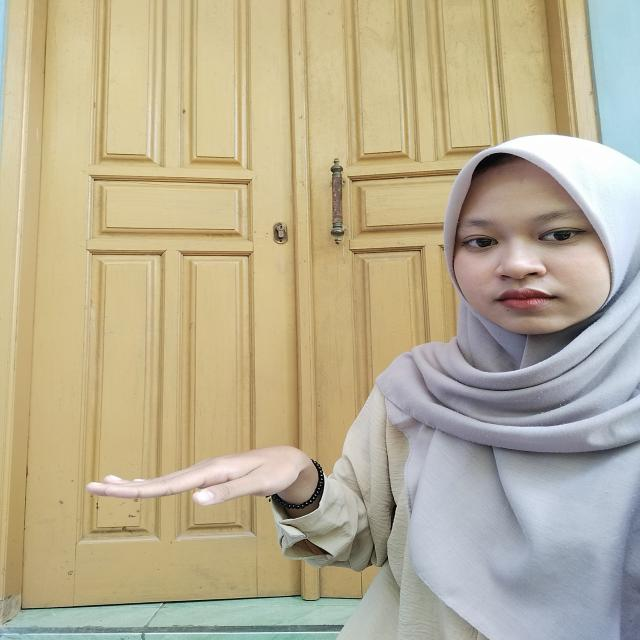adik: (61, 442, 352, 542)
